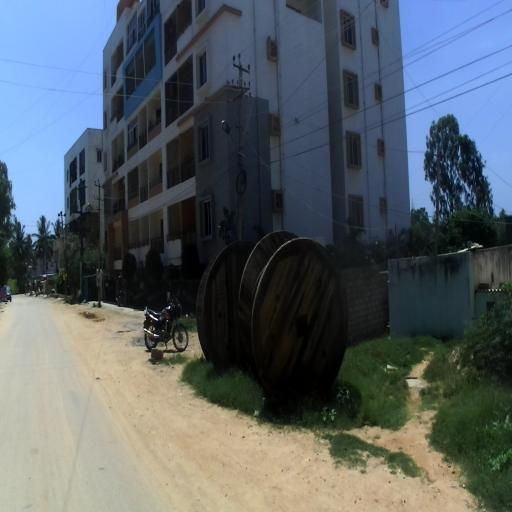street_light_0: (222, 120, 244, 168), (87, 203, 100, 222)
